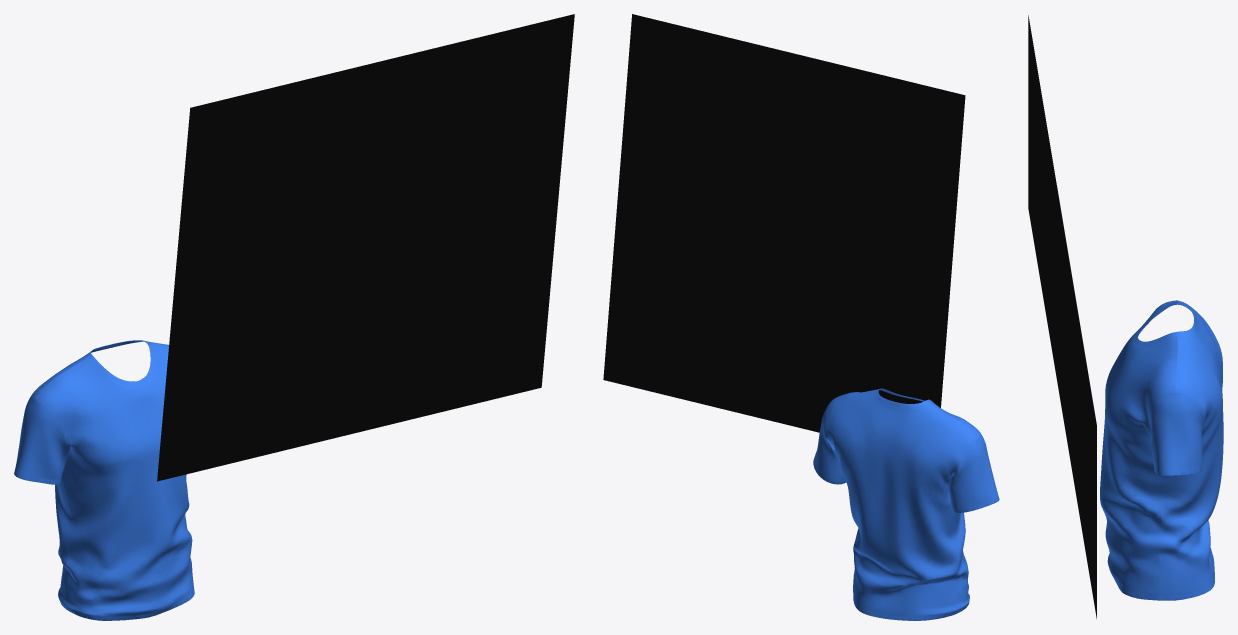
The model's file is design-1762846832550-667541267.glb.
The picture shows the model from 3 angles, left to right: view 1: azimuth 30°, elevation 25°; view 2: azimuth 150°, elevation 25°; view 3: azimuth 270°, elevation 25°; orthographic projection. The views are drawn at different scales.
Size of the model in its own units: 2.55 by 2.68 by 0.8486.
